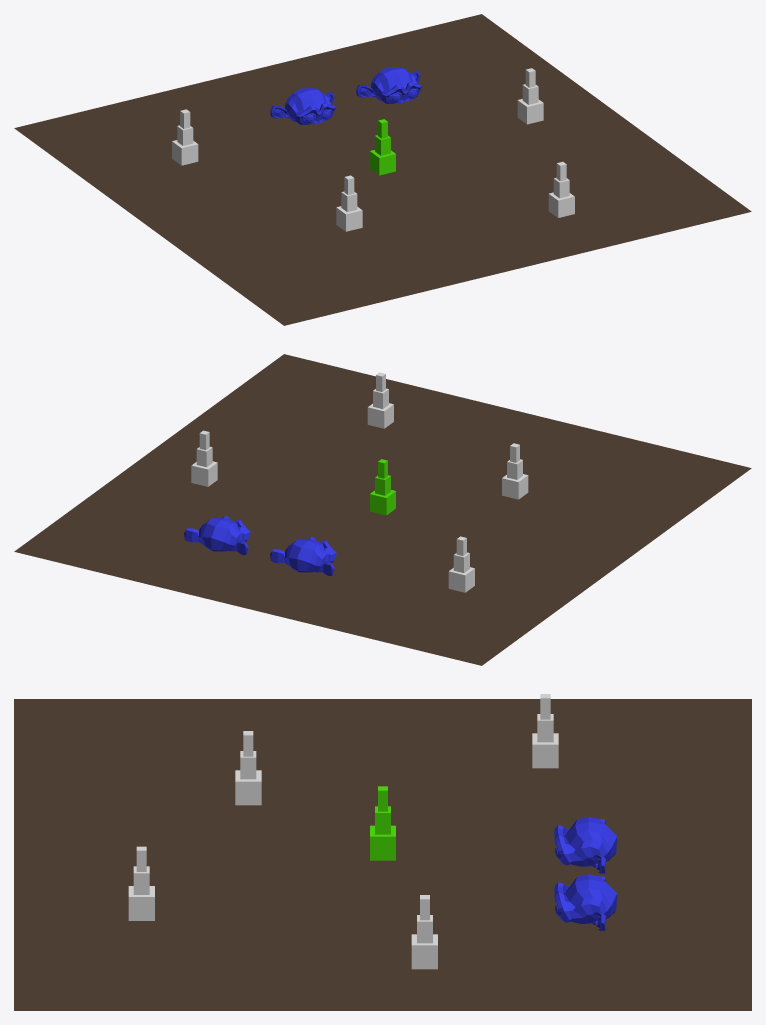
Rendered from TestWorld.fbx.
3 renders of one model, top to bottom at view 1: azimuth 30°, elevation 25°; view 2: azimuth 150°, elevation 25°; view 3: azimuth 270°, elevation 25°, orthographic. The views are drawn at different scales.
Parts seen in each view (by area): view 1: Ground, Suzanne, Suzanne.001, Cube.004, Cube.001, Cube.002, Cube.003, Cube; view 2: Ground, Suzanne.001, Suzanne, Cube.001, Cube.004, Cube.002, Cube.003, Cube; view 3: Ground, Suzanne.001, Suzanne, Cube.001, Cube.002, Cube.003, Cube.004, Cube.
Part boxes in pixels (left/top/right/bottom): Ground: left=14, top=14, right=751, bottom=325; Suzanne: left=270, top=88, right=336, bottom=124; Suzanne.001: left=356, top=67, right=422, bottom=103; Cube.004: left=517, top=68, right=543, bottom=124; Cube.001: left=172, top=109, right=198, bottom=165; Cube.002: left=336, top=175, right=362, bottom=231; Cube.003: left=548, top=161, right=574, bottom=217; Cube: left=370, top=119, right=395, bottom=175; Ground: left=14, top=354, right=751, bottom=665; Suzanne.001: left=184, top=515, right=250, bottom=555; Suzanne: left=270, top=536, right=336, bottom=576; Cube.001: left=448, top=536, right=474, bottom=592; Cube.004: left=191, top=430, right=217, bottom=486; Cube.002: left=502, top=443, right=528, bottom=499; Cube.003: left=367, top=372, right=393, bottom=428; Cube: left=370, top=459, right=395, bottom=515; Ground: left=14, top=699, right=751, bottom=1010; Suzanne.001: left=554, top=874, right=617, bottom=930; Suzanne: left=554, top=817, right=617, bottom=873; Cube.001: left=532, top=694, right=558, bottom=768; Cube.002: left=235, top=731, right=261, bottom=805; Cube.003: left=128, top=846, right=154, bottom=920; Cube.004: left=411, top=895, right=437, bottom=969; Cube: left=370, top=786, right=395, bottom=860.
Bounding box in the file's own units: 2000 × 2000 × 298.
